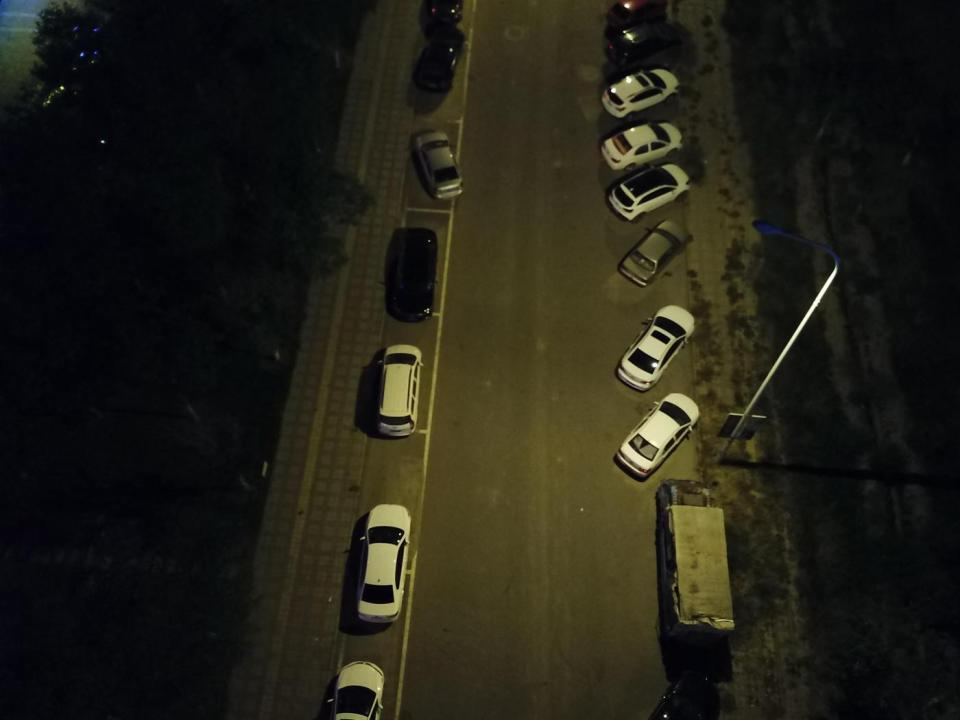car: (617, 391, 700, 478), (355, 503, 412, 624), (616, 304, 695, 391), (619, 219, 693, 286), (607, 163, 691, 222), (385, 227, 437, 322), (375, 344, 423, 438), (600, 121, 684, 172), (601, 68, 681, 121), (412, 131, 464, 200), (328, 660, 384, 720), (605, 23, 682, 66), (415, 37, 461, 91), (606, 0, 667, 26)
truck: (654, 483, 734, 636)
